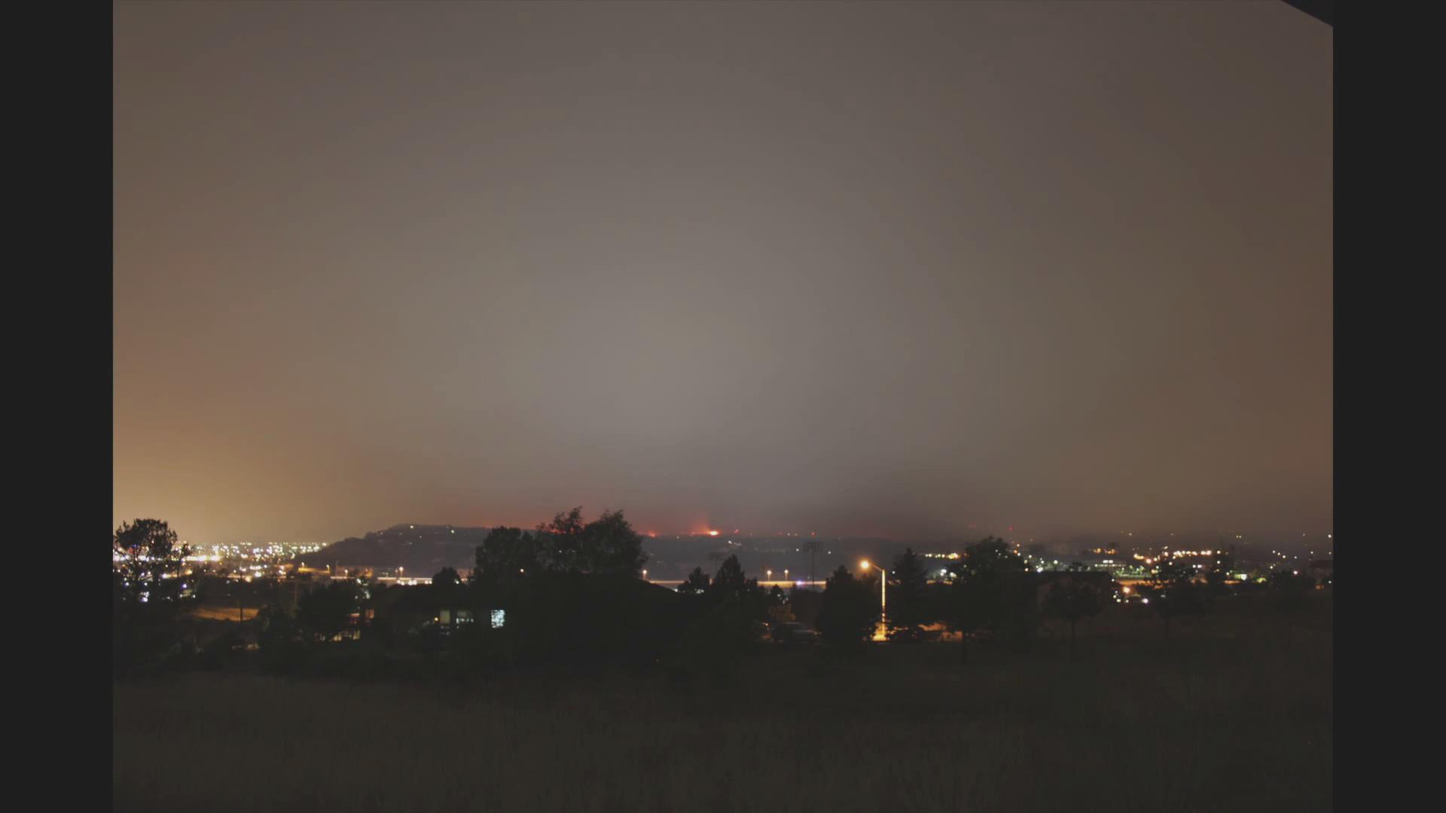fire: (112, 2, 1332, 579), (707, 527, 721, 536), (646, 529, 657, 538)
